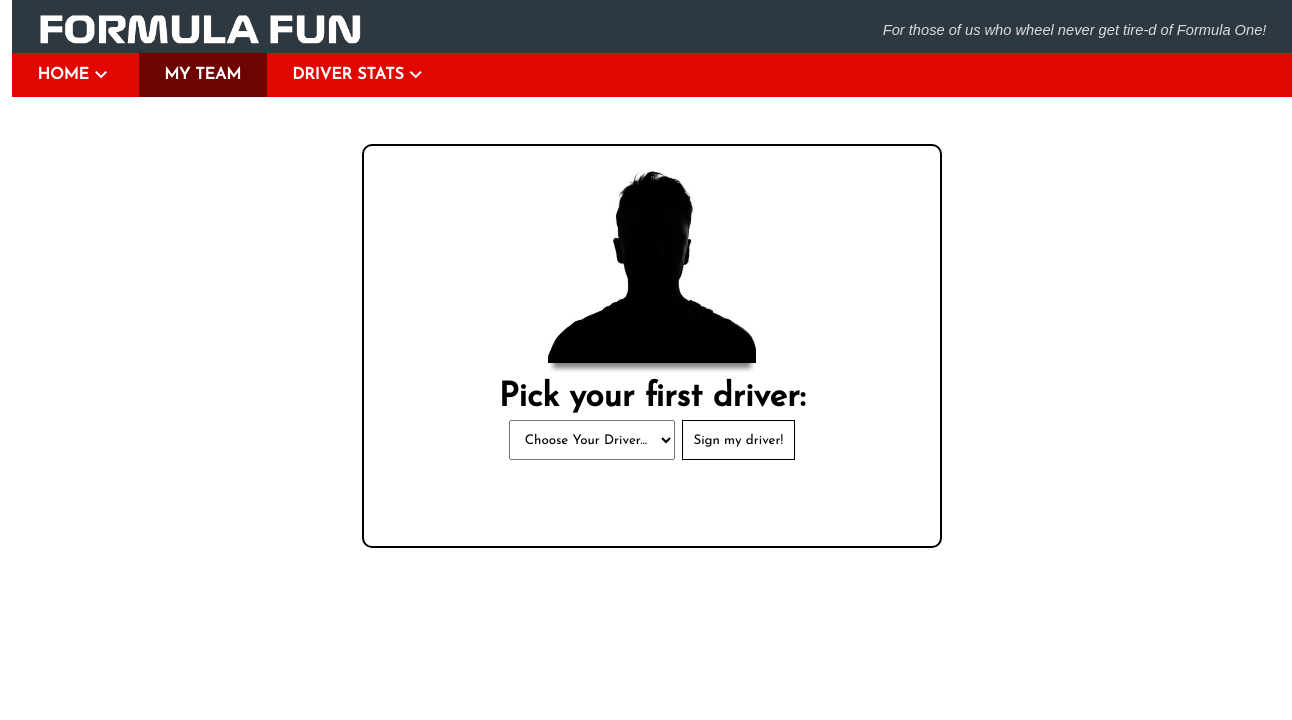
Test: Chosing Drivers Path › should not allow user to submit no driver and ask them to select one
Click the button "Sign my driver!". click: (739, 440)
box: left=682, top=420, right=795, bottom=460
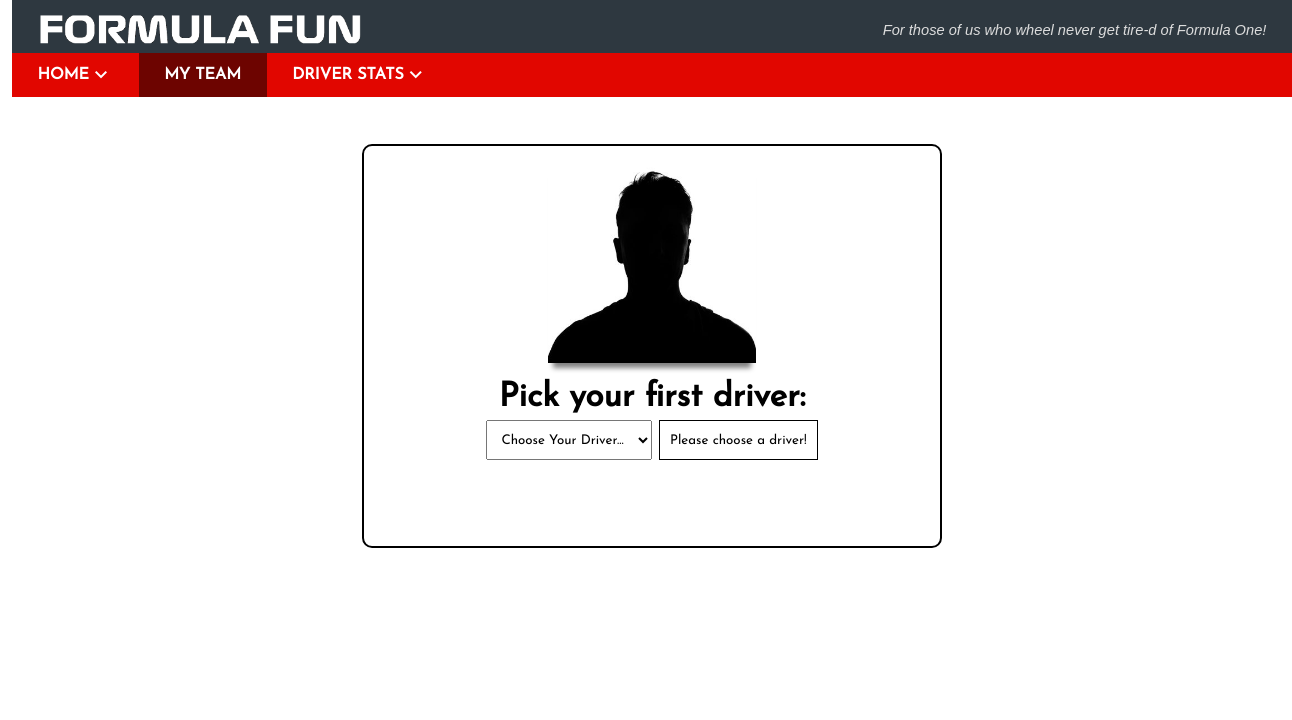
expect the button "Please choose a driver!" is shown: met, box left=659, top=420, right=818, bottom=460
